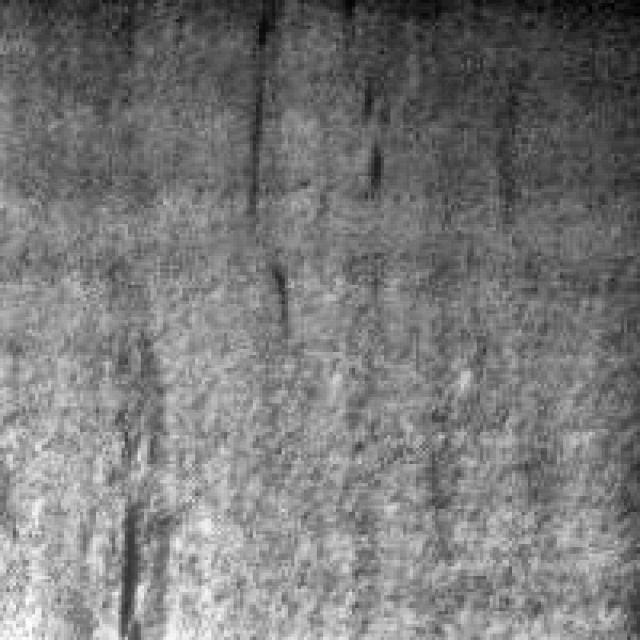Patches: (205, 3, 301, 205), (92, 492, 150, 634)
